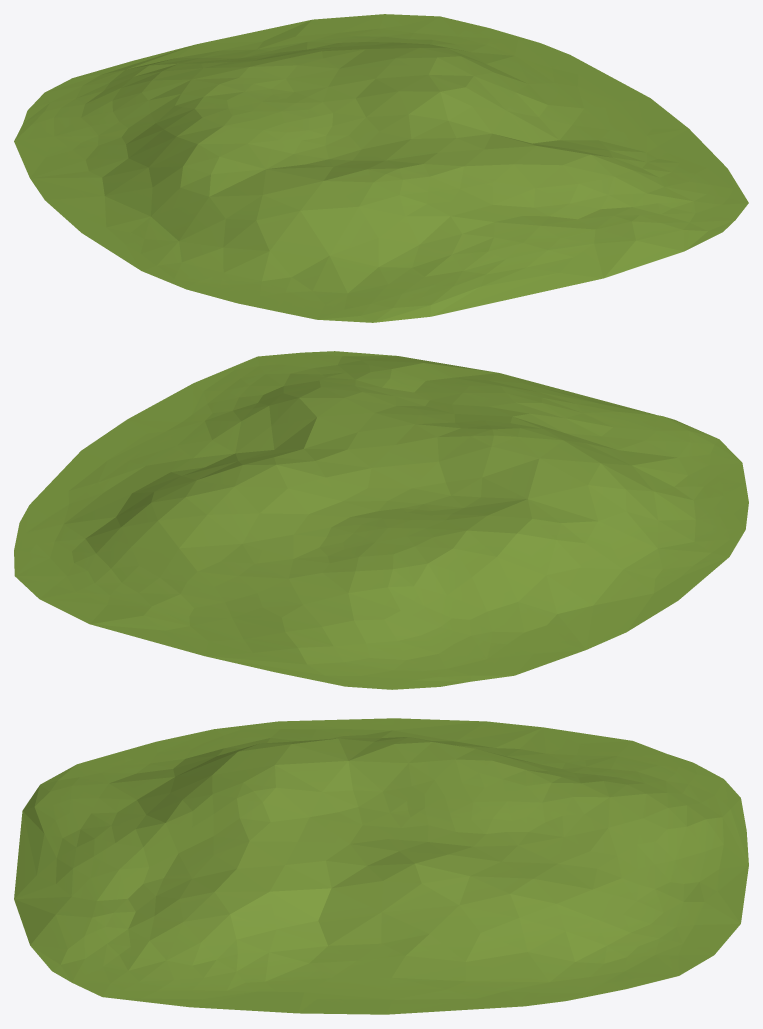
The model's file is Mesh_Landscape_Hill_02.FBX.
The picture shows the model from 3 angles, top to bottom: view 1: azimuth 30°, elevation 25°; view 2: azimuth 150°, elevation 25°; view 3: azimuth 270°, elevation 25°; orthographic projection. The views are drawn at different scales.
Parts seen in each view (by area): view 1: Mesh_Landscape_Hill_02; view 2: Mesh_Landscape_Hill_02; view 3: Mesh_Landscape_Hill_02.
Part boxes in pixels (bbox=[...]): Mesh_Landscape_Hill_02: bbox=[14, 14, 748, 322]; Mesh_Landscape_Hill_02: bbox=[14, 351, 748, 689]; Mesh_Landscape_Hill_02: bbox=[14, 718, 748, 1014].
Bounding box in the file's own units: 1887 × 1977 × 155.
